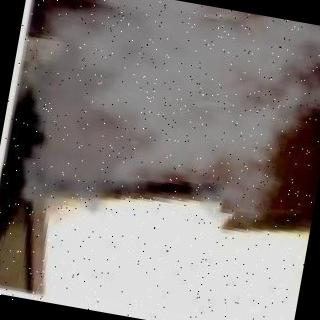smoke: (18, 0, 320, 250)
